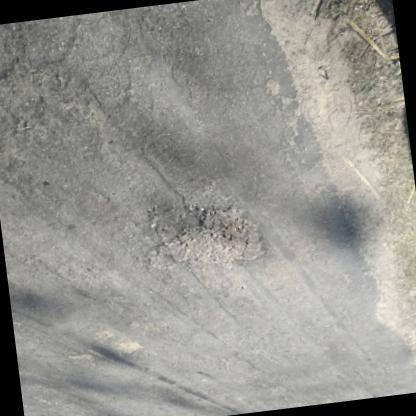pothole: (145, 192, 267, 272)
